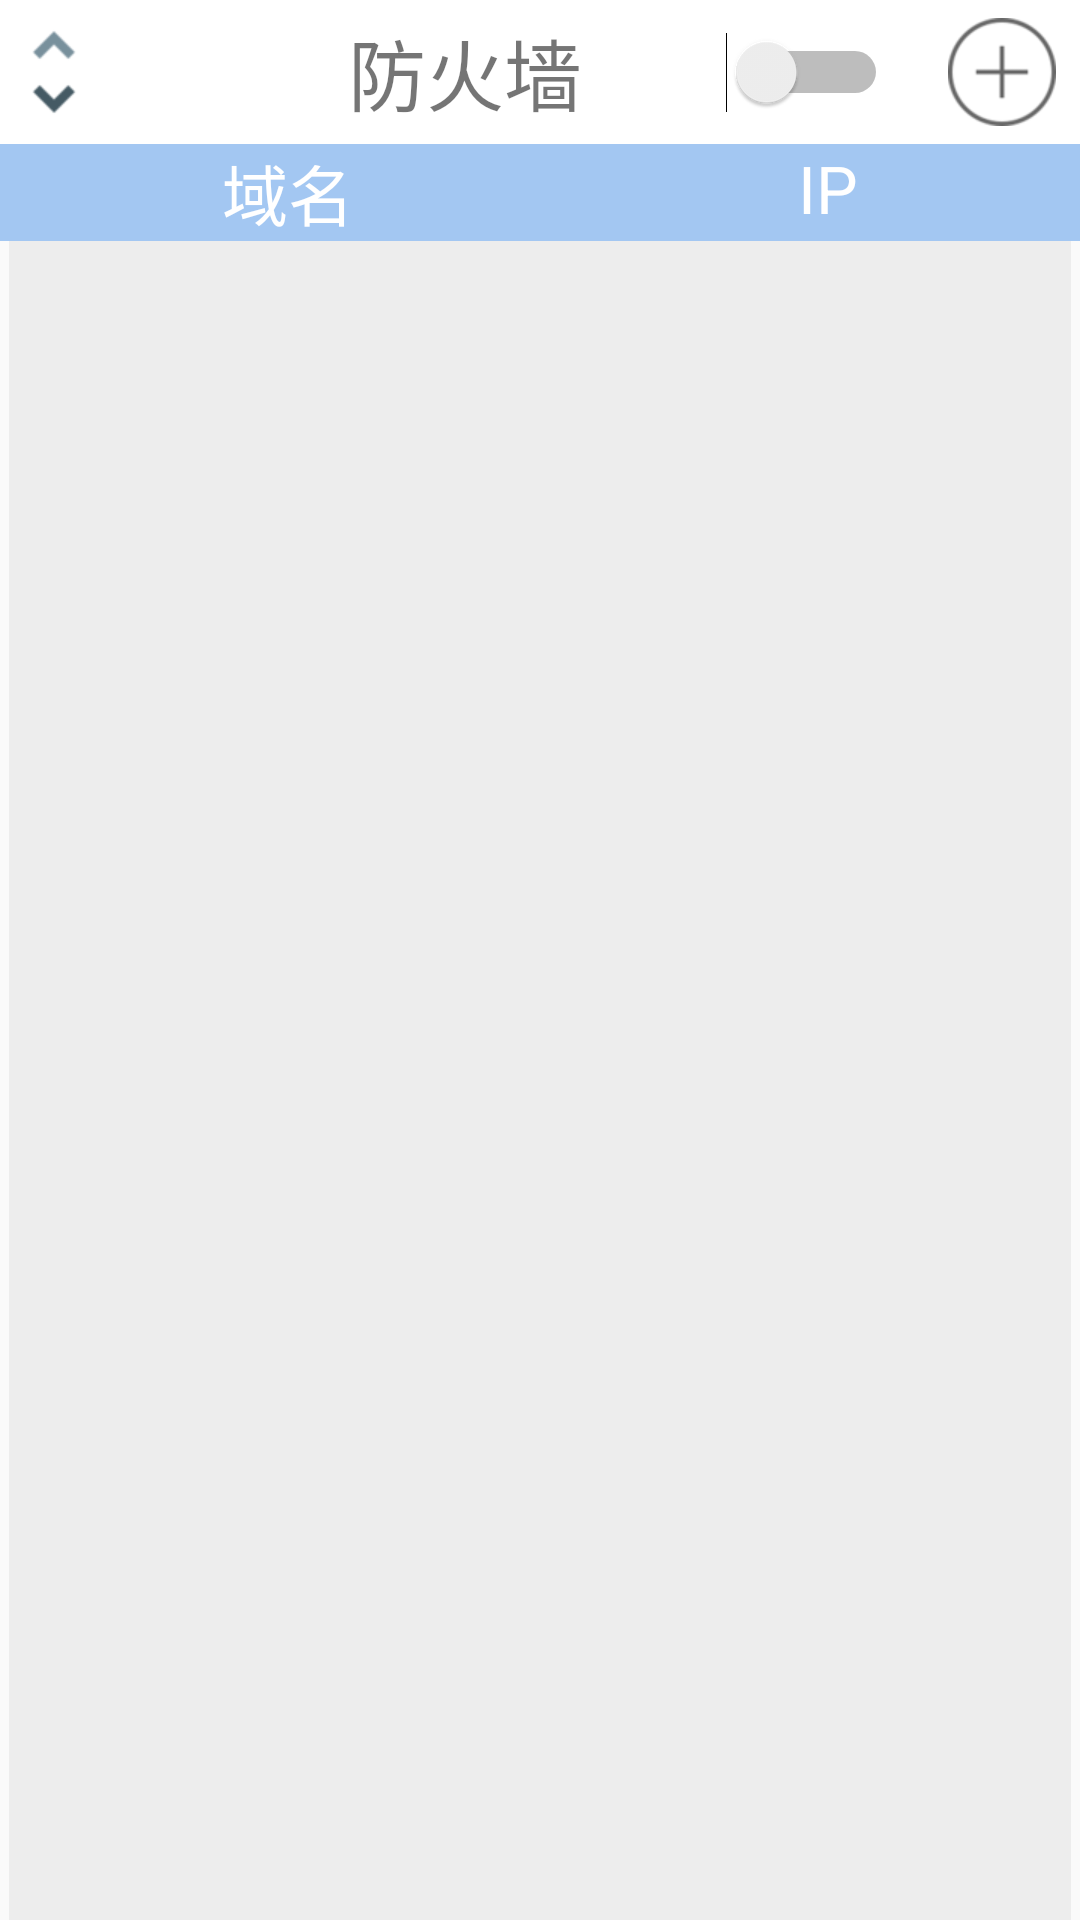

Where icons sit on this 1080 x 1920 app screen, as (x1, y1, x2, y2):
plus: (948, 18, 1056, 126)
unfold more: (33, 31, 75, 113)
